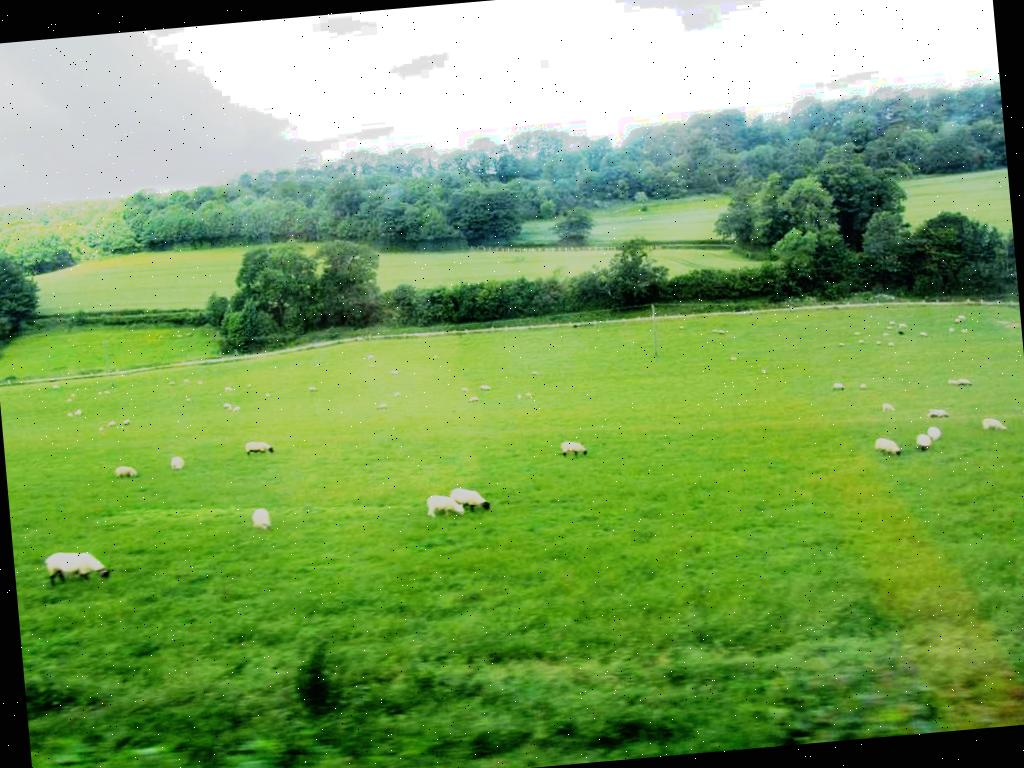Sheep: (44, 552, 110, 586), (449, 483, 489, 515), (423, 491, 467, 520), (556, 437, 592, 461), (874, 435, 904, 462), (976, 416, 1012, 437), (244, 439, 274, 464), (912, 434, 932, 455), (926, 406, 952, 422), (114, 464, 138, 481), (924, 423, 942, 442), (878, 400, 896, 416), (956, 376, 974, 390), (830, 378, 845, 394)
